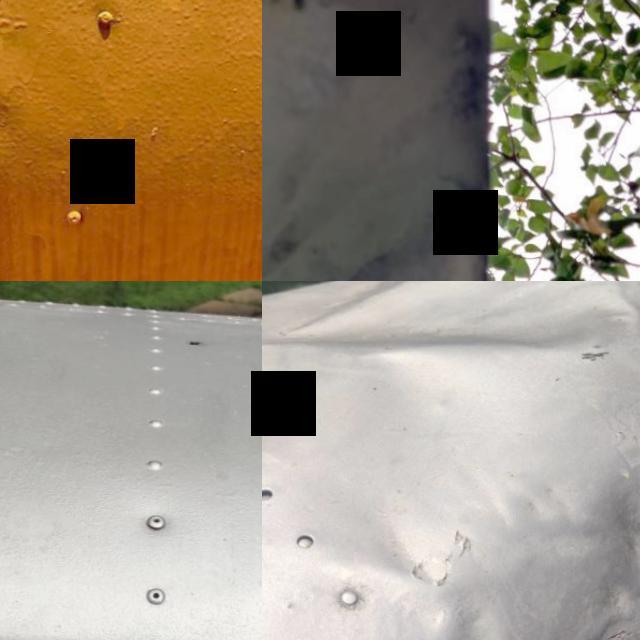Dent: (262, 281, 640, 397), (283, 166, 513, 281), (326, 498, 462, 598), (578, 408, 640, 603), (415, 577, 521, 640), (0, 24, 37, 198)
Missing_Fastener: (262, 470, 282, 519)
